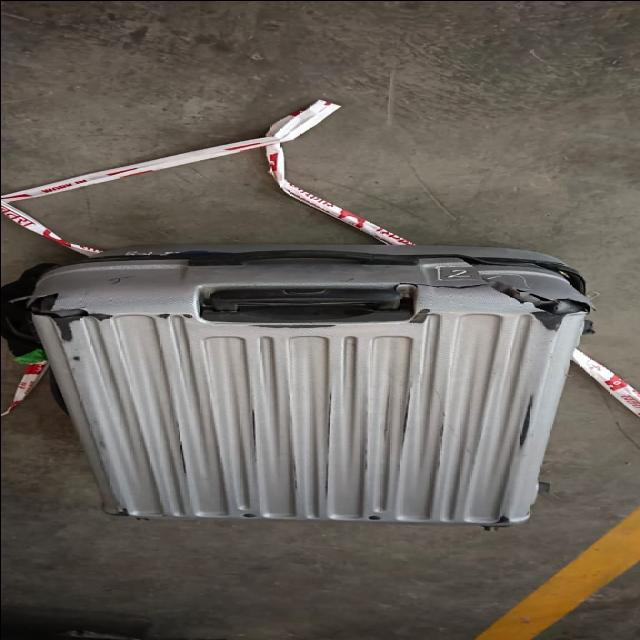Damage-bag: (1, 262, 109, 362), (393, 279, 590, 329), (454, 256, 584, 292)
